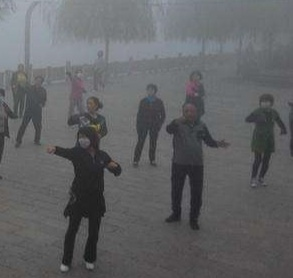person: (48, 127, 121, 274), (166, 100, 230, 231), (245, 93, 286, 188), (130, 83, 166, 169), (15, 76, 46, 149), (67, 96, 107, 139), (9, 61, 30, 119), (64, 67, 84, 121), (1, 89, 13, 177), (184, 72, 206, 117), (92, 51, 106, 92)
